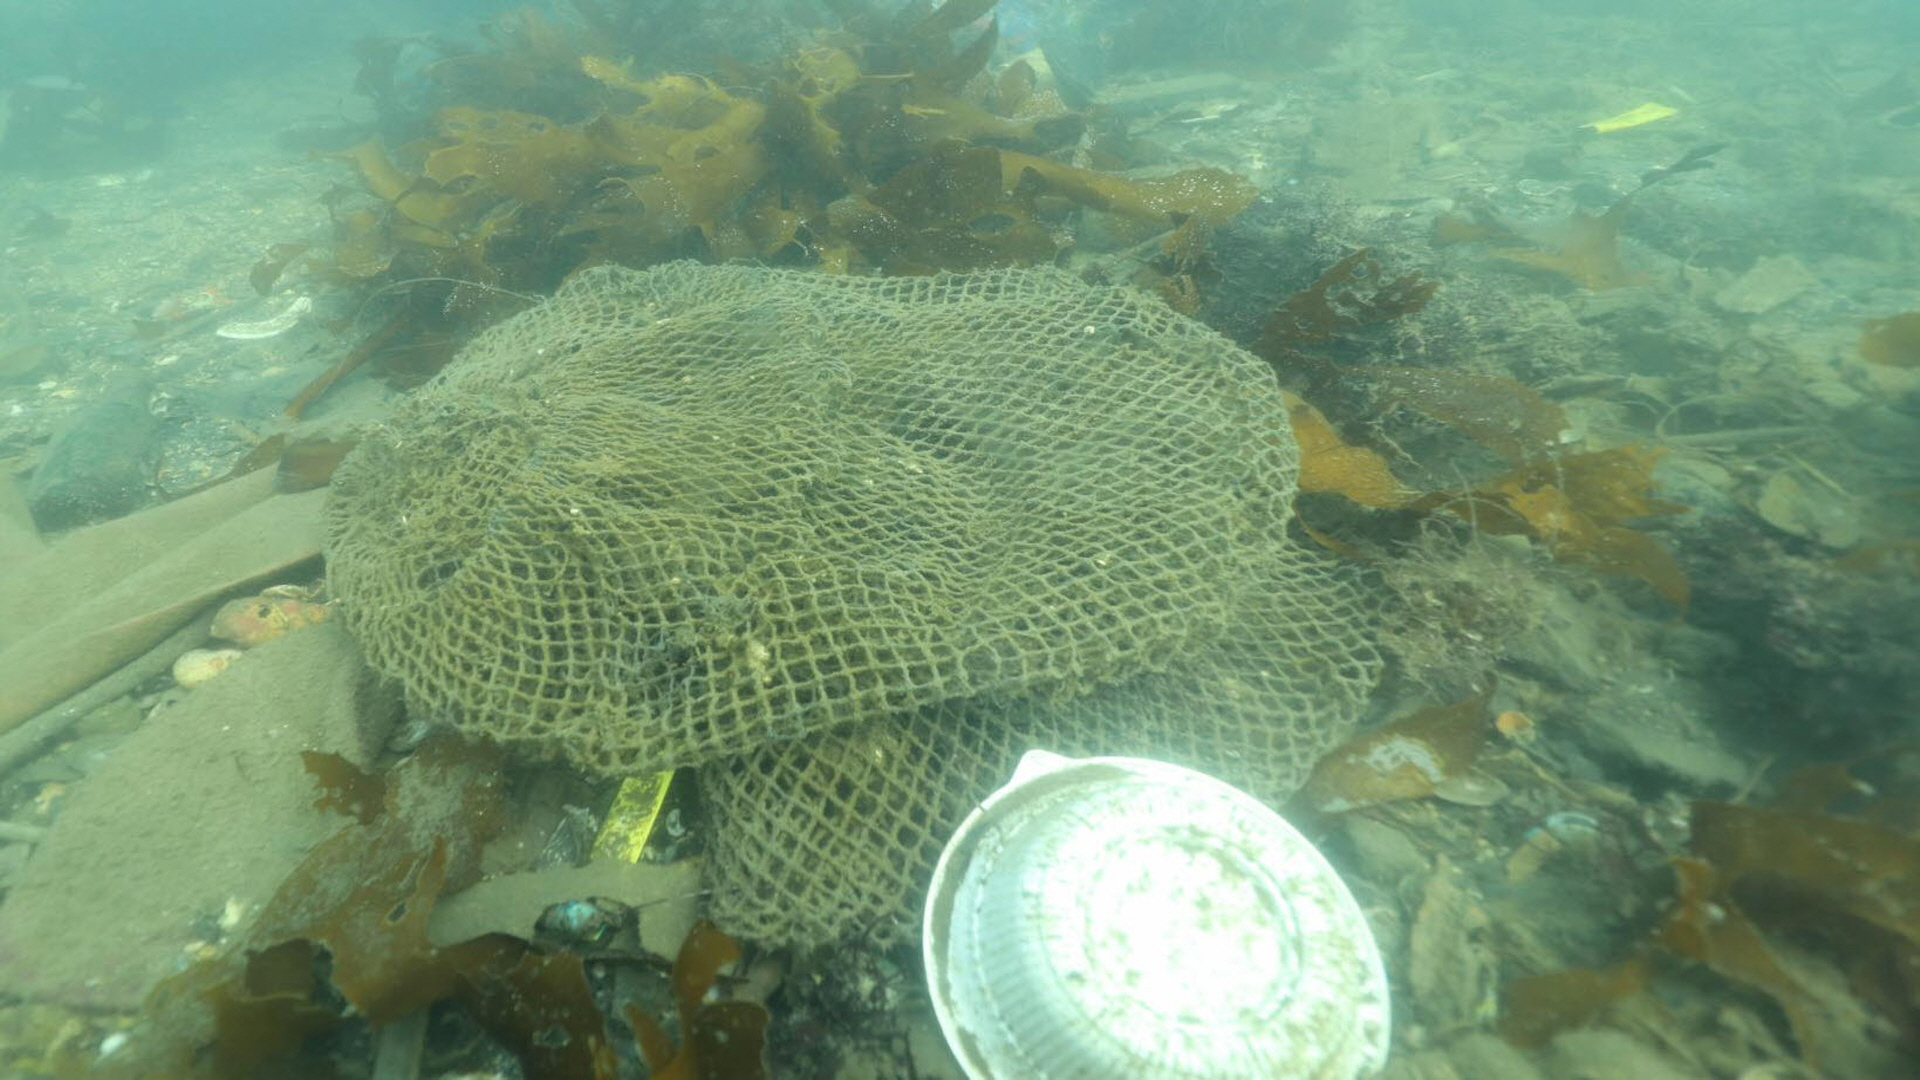fish net: (324, 258, 1379, 944)
